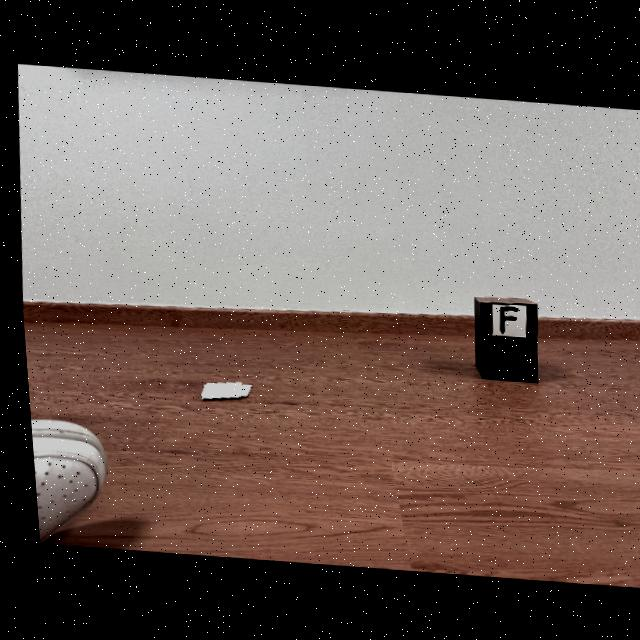F: (495, 304, 514, 331)
